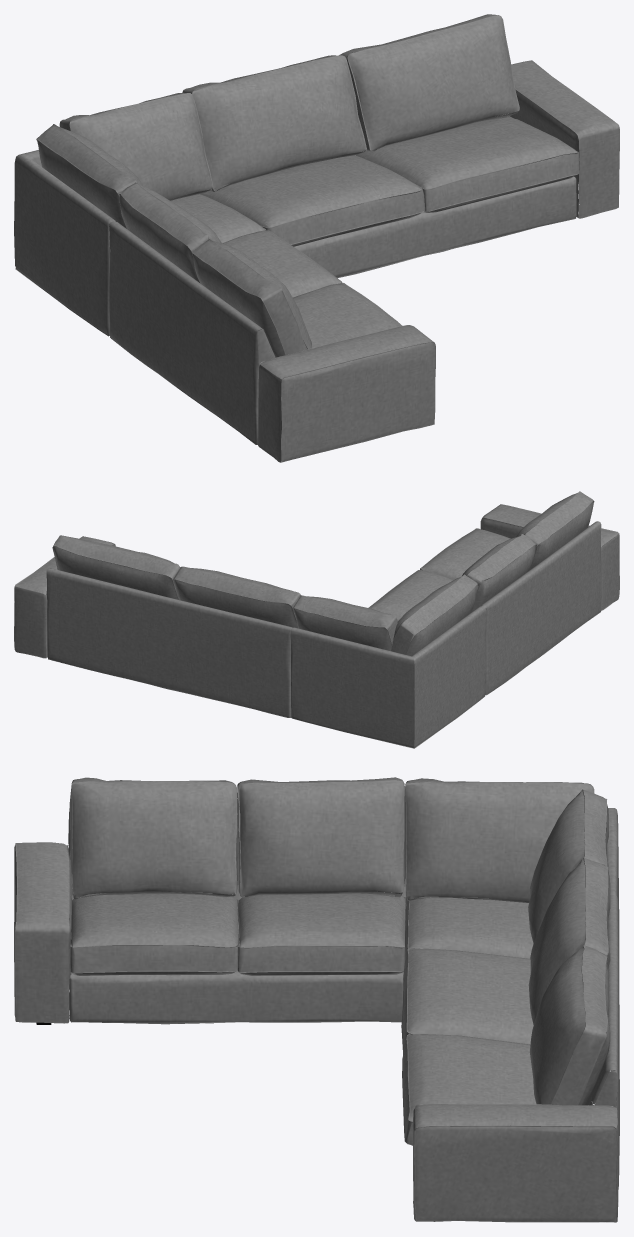
The model's file is kivik_sofa_narozna_5_osobowa_39440475.glb.
3 views of the same model, one above another, from view 1: azimuth 30°, elevation 25°; view 2: azimuth 150°, elevation 25°; view 3: azimuth 270°, elevation 25° (orthographic). The views are drawn at different scales.
Parts seen in each view (by area): view 1: kivik_sofa_narozna_5_osobowa_39440475; view 2: kivik_sofa_narozna_5_osobowa_39440475; view 3: kivik_sofa_narozna_5_osobowa_39440475.
Part boxes in pixels (x1,y1,x2,y2): kivik_sofa_narozna_5_osobowa_39440475: (14,14,619,462); kivik_sofa_narozna_5_osobowa_39440475: (14,491,619,748); kivik_sofa_narozna_5_osobowa_39440475: (14,777,619,1222).
Bounding box in the file's own units: 2.97 × 0.8574 × 2.65.
Materials: 1 (1 with a texture image).
